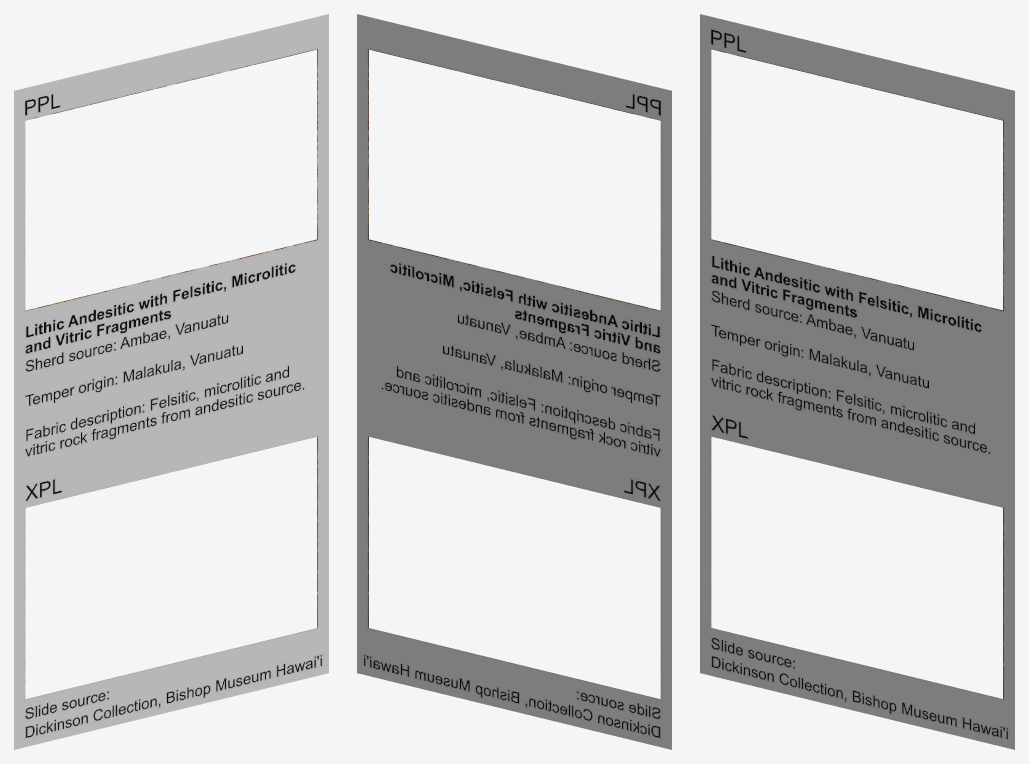
File: wd_48_7_frame.glb
The picture shows the model from 3 angles, left to right: view 1: azimuth 30°, elevation 25°; view 2: azimuth 150°, elevation 25°; view 3: azimuth 330°, elevation 25°; orthographic projection.
Visible parts, largest first — view 1: WD_48_7; view 2: WD_48_7; view 3: WD_48_7.
Part boxes in pixels (x1=…): WD_48_7: x1=14, y1=14, x2=328, y2=749; WD_48_7: x1=357, y1=14, x2=671, y2=749; WD_48_7: x1=700, y1=14, x2=1014, y2=749.
Size of the model in its own units: 0.5 by 1 by 4.37e-08.
Materials: 1 (1 with a texture image).
